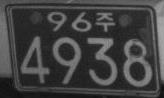3: (87, 36, 118, 86)
4: (20, 35, 49, 84)
6: (71, 11, 92, 32)
8: (122, 37, 153, 88)
9: (52, 36, 81, 84), (46, 11, 67, 31)
주: (95, 12, 115, 32)
